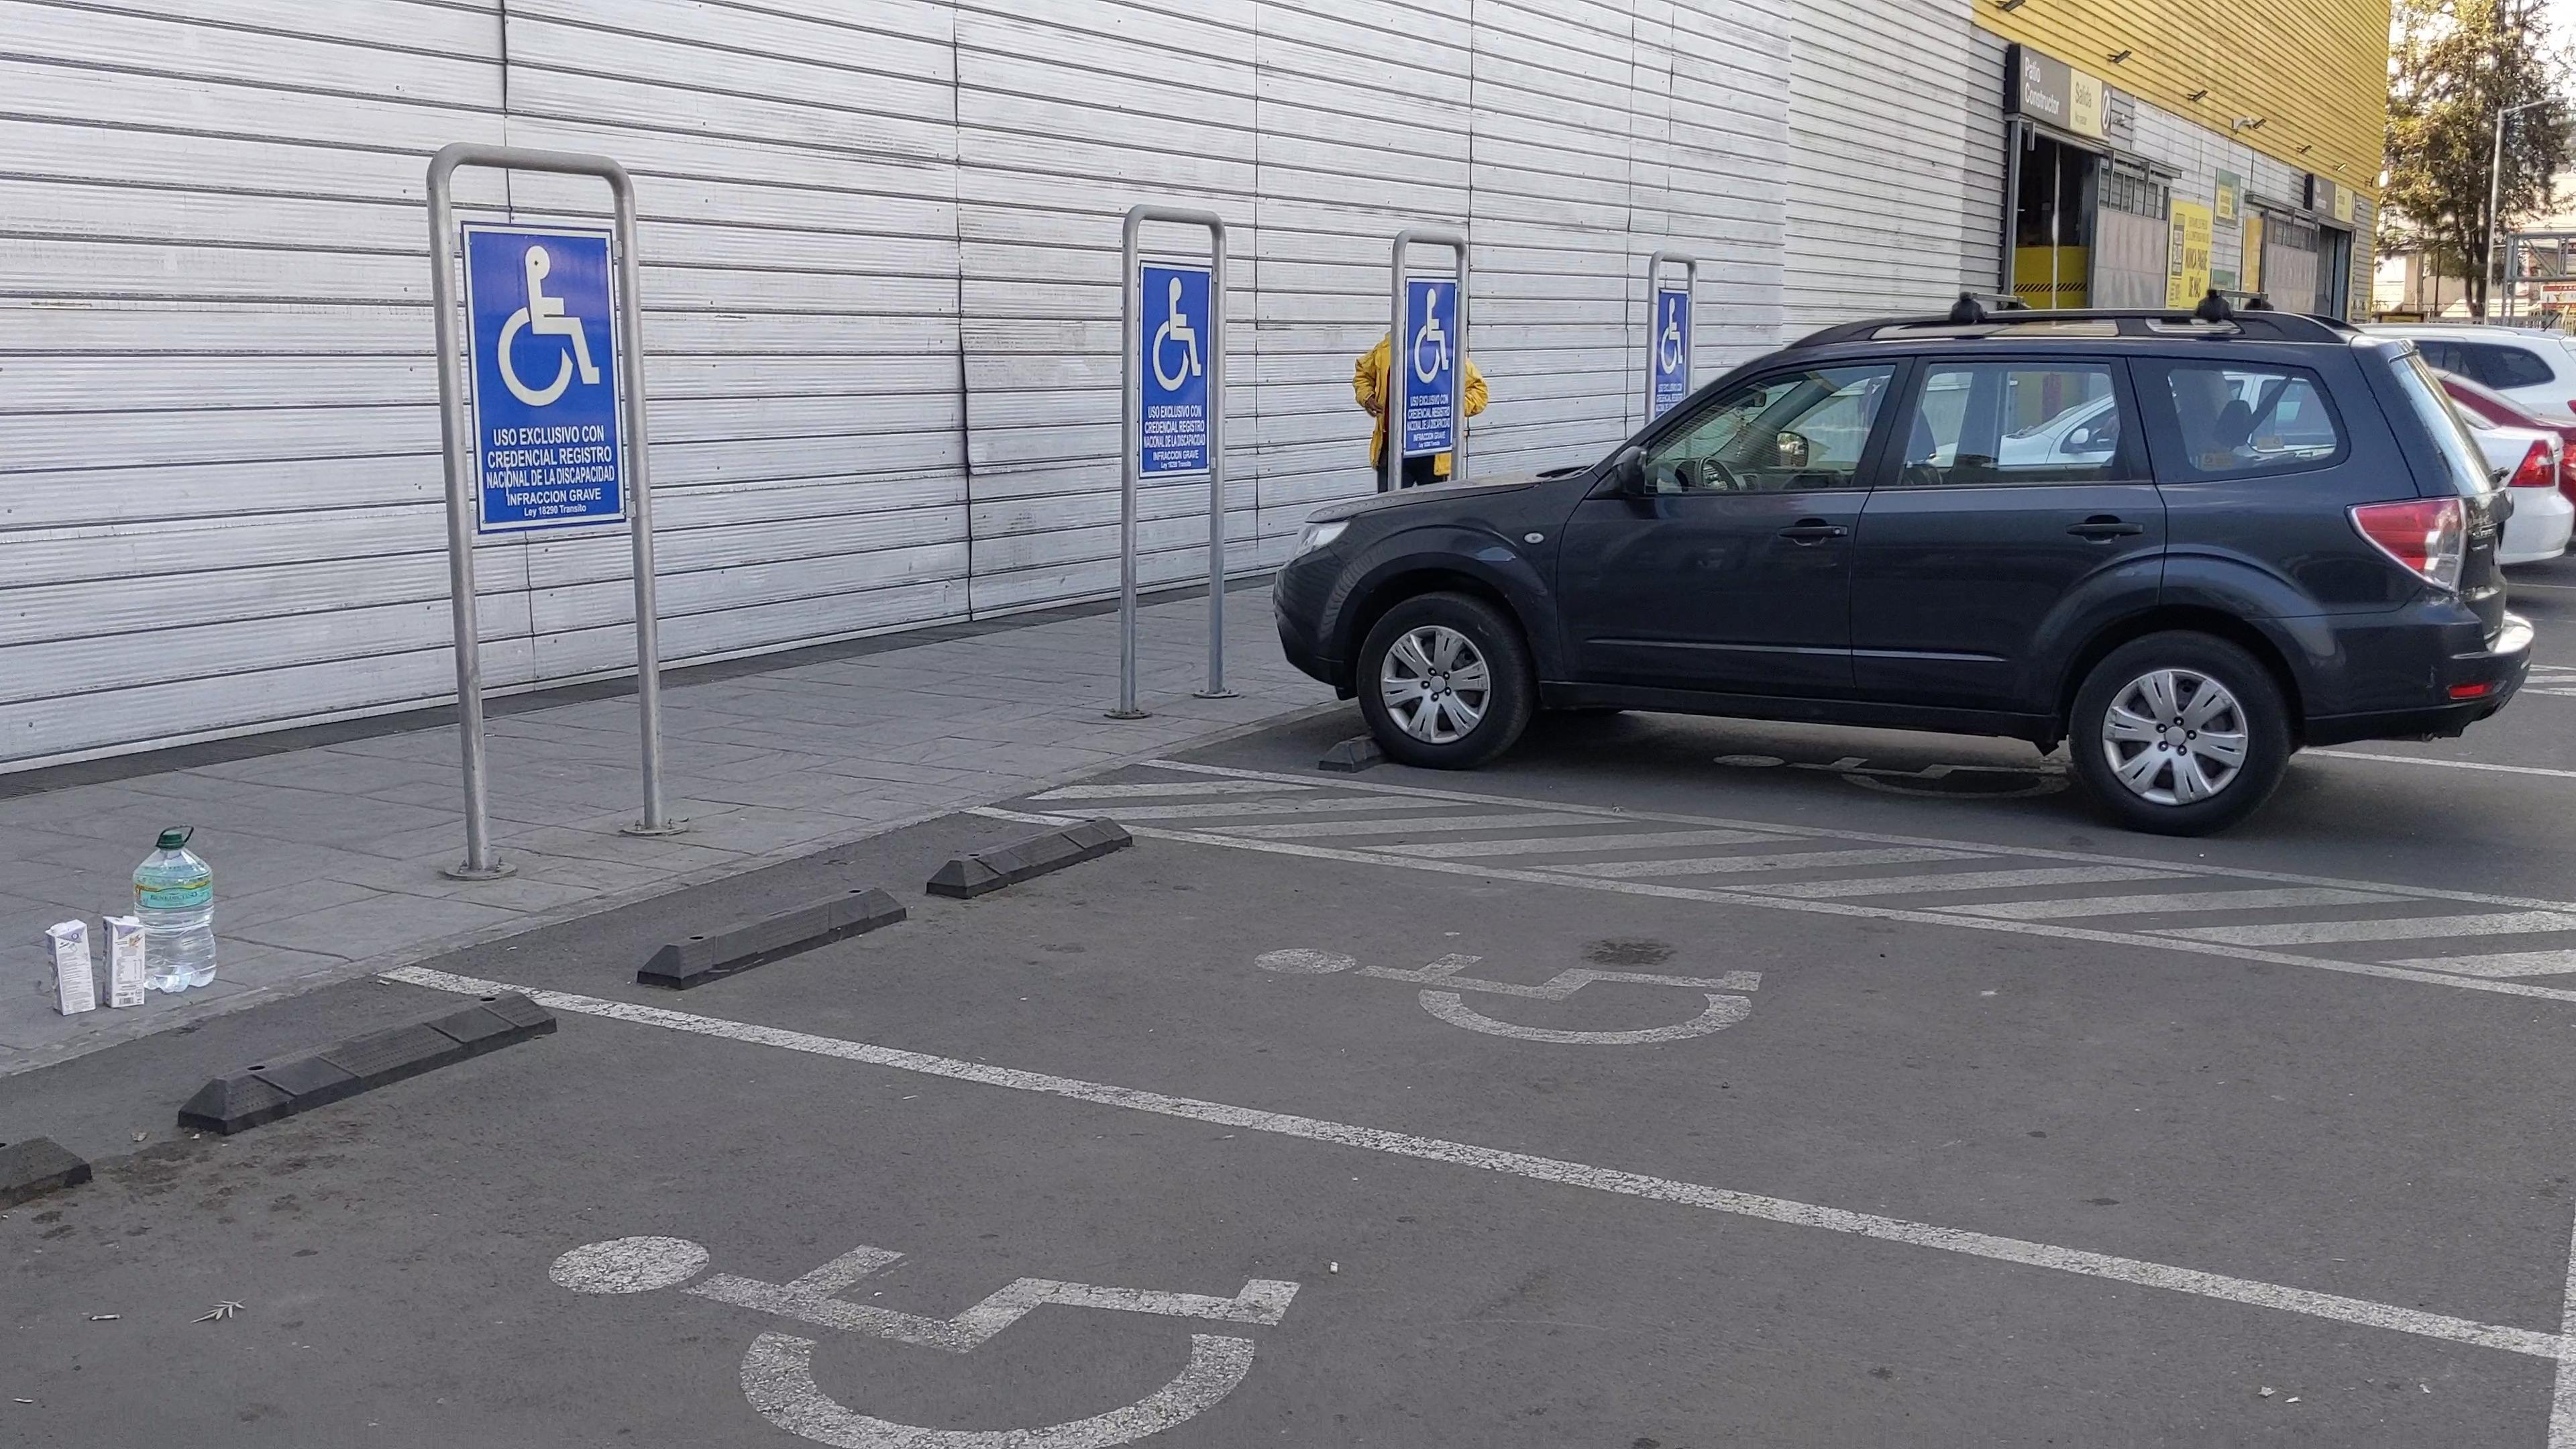handicapped symbol: (537, 1205, 1305, 1449), (1242, 922, 1775, 1061), (488, 244, 602, 409), (1150, 276, 1203, 393), (1413, 286, 1451, 386), (1660, 295, 1685, 376)
